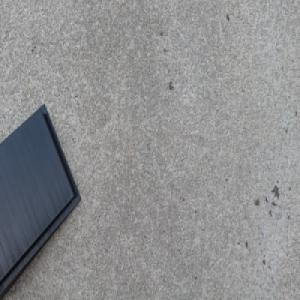PlasticPart: (0, 102, 81, 300)
